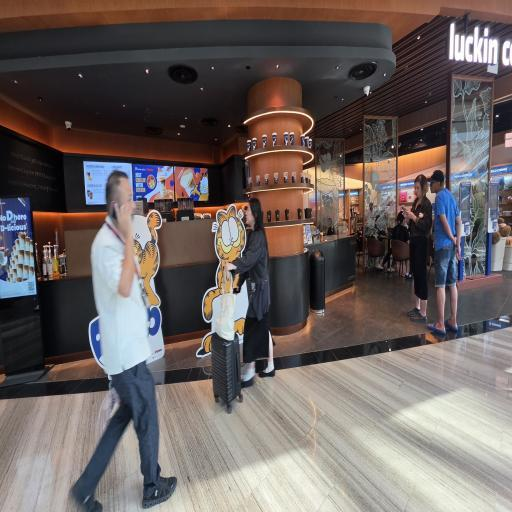person_left: (426, 164, 464, 336), (398, 158, 430, 321)
person_right: (62, 162, 182, 503)
person_with_luggage_left: (200, 194, 276, 396)
